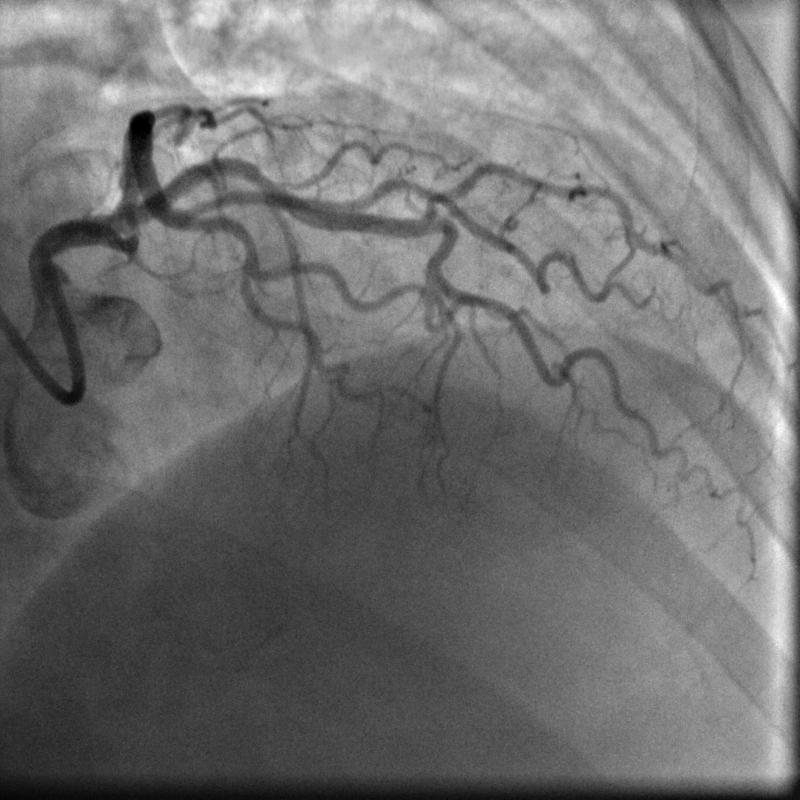Stenosis: (114, 197, 141, 252)
